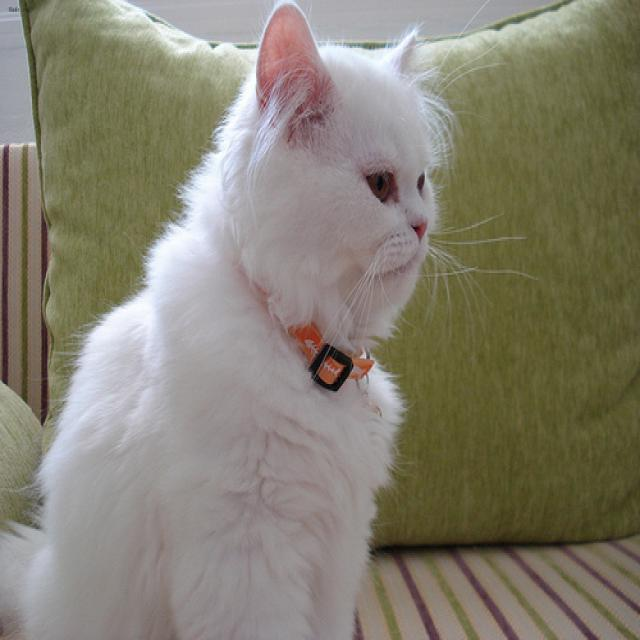Persian: (206, 2, 443, 364)
